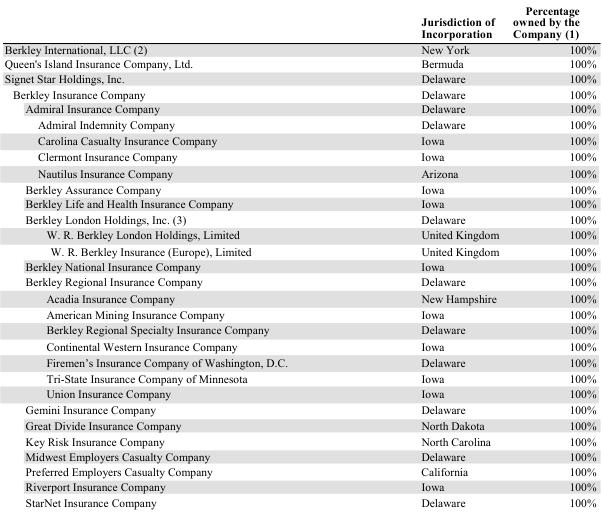table: (3, 3, 595, 508)
table column: (3, 3, 353, 508), (353, 3, 505, 508), (505, 3, 595, 508)
table column header: (3, 3, 595, 41)
table row: (3, 3, 595, 41), (3, 70, 595, 86), (3, 116, 595, 132), (3, 132, 595, 148), (3, 148, 595, 164), (3, 164, 595, 180), (3, 180, 595, 196), (3, 226, 595, 242), (3, 242, 595, 258), (3, 273, 595, 289), (3, 289, 595, 305), (3, 305, 595, 321), (3, 321, 595, 337), (3, 337, 595, 353), (3, 353, 595, 369), (3, 369, 595, 385), (3, 385, 595, 401), (3, 401, 595, 417), (3, 432, 595, 448), (3, 478, 595, 494), (3, 41, 595, 56), (3, 86, 595, 101), (3, 101, 595, 116), (3, 196, 595, 211), (3, 211, 595, 226), (3, 258, 595, 273), (3, 417, 595, 432), (3, 448, 595, 463), (3, 463, 595, 478), (3, 56, 595, 70), (3, 494, 595, 508)
